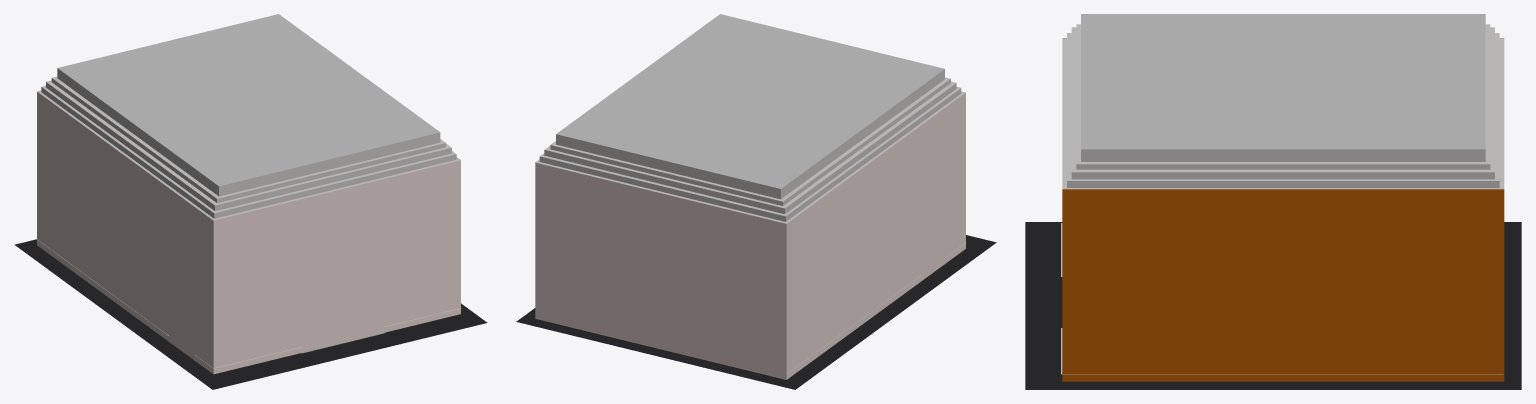
File: LivingRoomV3.fbx
3 views of the same model, side by side, from view 1: azimuth 30°, elevation 25°; view 2: azimuth 150°, elevation 25°; view 3: azimuth 270°, elevation 25° (orthographic). The views are drawn at different scales.
Parts seen in each view (by area): view 1: tv:pCube2, pPlane5; view 2: tv:pCube2, pPlane5; view 3: tv:pCube2, pPlane5.
Part boxes in pixels (<box>): tv:pCube2: <box>37,14,461,374</box>; pPlane5: <box>14,239,487,389</box>; tv:pCube2: <box>535,14,966,379</box>; pPlane5: <box>516,235,996,389</box>; tv:pCube2: <box>1061,14,1504,381</box>; pPlane5: <box>1025,222,1521,389</box>.
Size of the model in its own units: 20 by 12.54 by 25.
